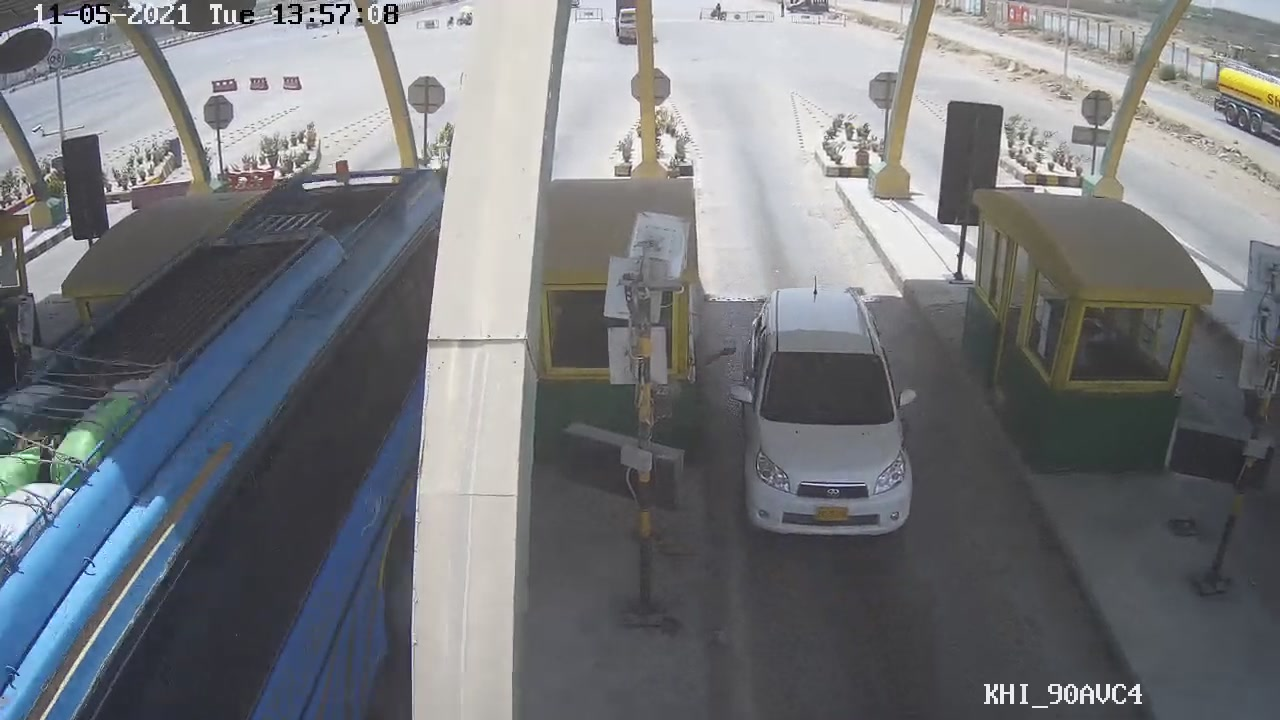F1: (726, 269, 926, 550)
